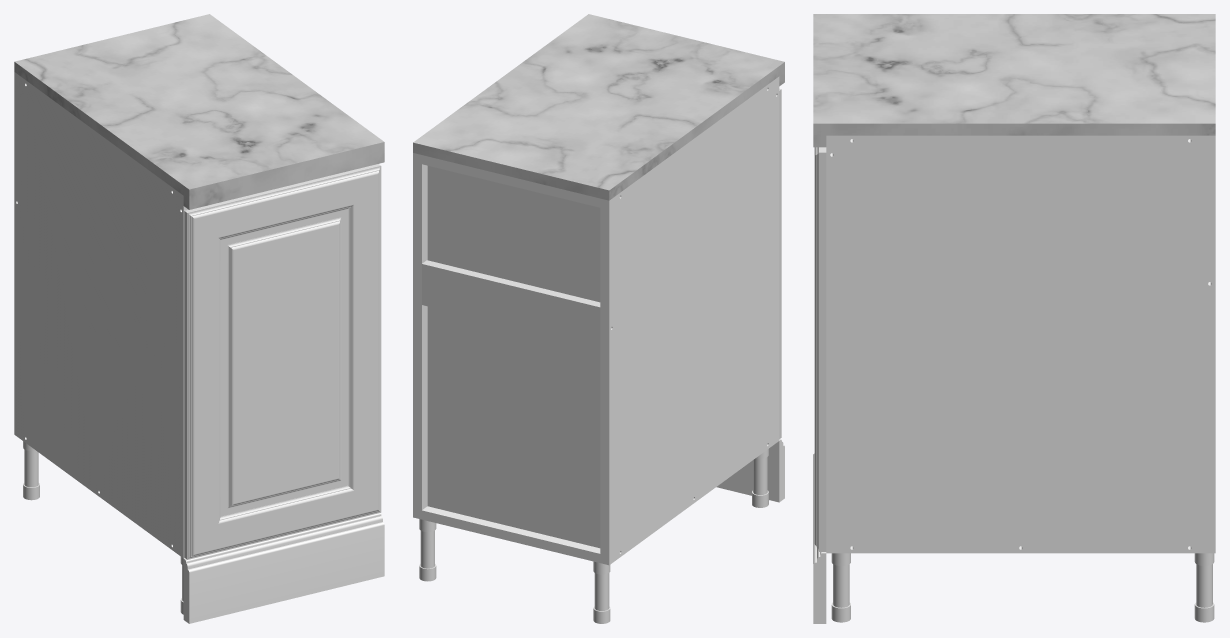
Rendered from BBK 040x60x85.gltf.
3 views of the same model, side by side, from view 1: azimuth 30°, elevation 25°; view 2: azimuth 150°, elevation 25°; view 3: azimuth 270°, elevation 25° (orthographic). The views are drawn at different scales.
Parts seen in each view (by area): view 1: 3DGeom-18, 3DGeom-5, 3DGeom-10, 3DGeom-6, 3DGeom-4; view 2: 3DGeom-5 (×2), 3DGeom-14, 3DGeom-10, 3DGeom-11, 3DGeom-4 (×3), 3DGeom-15, 3DGeom-12, 3DGeom-6, 3DGeom-18; view 3: 3DGeom-5, 3DGeom-10, 3DGeom-18, 3DGeom-4 (×2), 3DGeom-6.
Boxes of the visible parts, left/top/right/bottom form: 3DGeom-18: left=184, top=164, right=381, bottom=559; 3DGeom-5: left=14, top=72, right=188, bottom=558; 3DGeom-10: left=14, top=14, right=384, bottom=209; 3DGeom-6: left=183, top=512, right=384, bottom=623; 3DGeom-4: left=23, top=441, right=39, bottom=500; 3DGeom-5 (×2): left=413, top=76, right=779, bottom=565; 3DGeom-14: left=427, top=166, right=600, bottom=548; 3DGeom-10: left=413, top=14, right=784, bottom=200; 3DGeom-11: left=422, top=260, right=600, bottom=348; 3DGeom-4 (×3): left=419, top=449, right=768, bottom=623; 3DGeom-15: left=422, top=506, right=600, bottom=562; 3DGeom-12: left=422, top=155, right=600, bottom=207; 3DGeom-6: left=716, top=439, right=784, bottom=502; 3DGeom-18: left=779, top=88, right=781, bottom=438; 3DGeom-5: left=826, top=135, right=1215, bottom=553; 3DGeom-10: left=813, top=14, right=1215, bottom=147; 3DGeom-18: left=814, top=147, right=826, bottom=551; 3DGeom-4 (×2): left=831, top=553, right=1214, bottom=622; 3DGeom-6: left=813, top=453, right=826, bottom=623.
Size of the model in its own units: 0.4 by 0.85 by 0.62.
4 materials, 1 textured.
